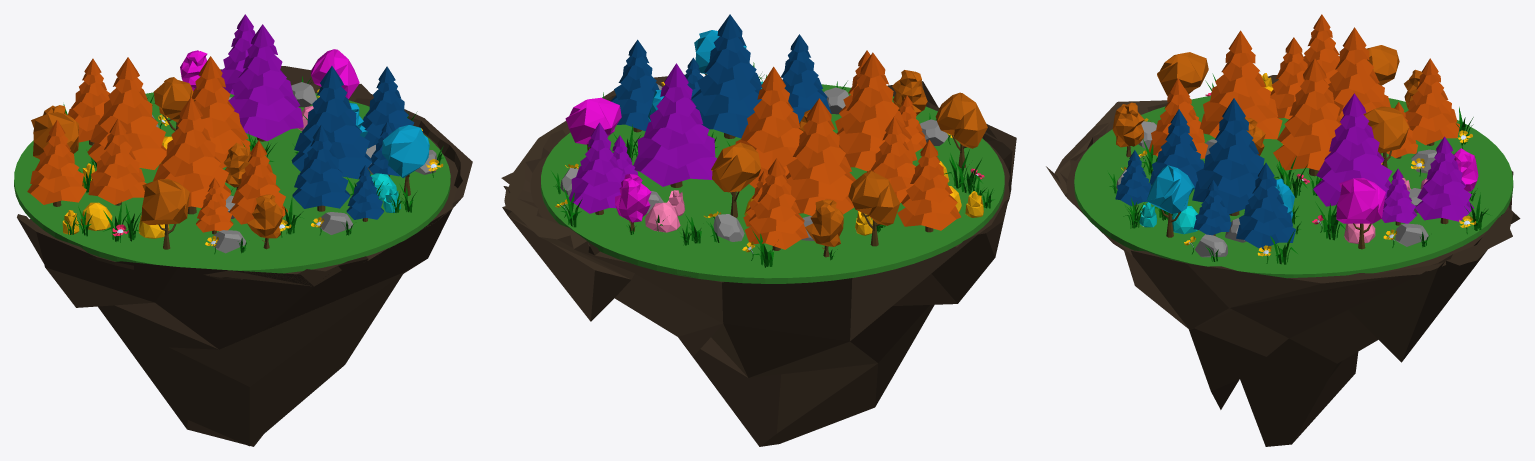
The model's file is community-full.gltf.
The picture shows the model from 3 angles, left to right: view 1: azimuth 30°, elevation 25°; view 2: azimuth 150°, elevation 25°; view 3: azimuth 270°, elevation 25°; orthographic projection. The views are drawn at different scales.
Visible parts, largest first — view 1: Bedrock.002, AAGround, FirTree3.009, FirTree3, FirTree3.008, FirTree3.014, FirTree3.017, FirTree3.016, FirTree3.018, FirTree3.015, FirTree3.006, Tree2Group2.002 (+17 smaller); view 2: Bedrock.002, AAGround, FirTree3.009, FirTree3.014, FirTree3, FirTree3.008, FirTree3.017, FirTree3.016, FirTree3.002, FirTree3.011, FirTree3.012, FirTree3.018 (+13 smaller); view 3: Bedrock.002, AAGround, FirTree3.017, FirTree3.014, FirTree3.009, FirTree3.008, FirTree3.012, FirTree3.011, FirTree3, FirTree3.002, Tree2Group2.003, FirTree3.018 (+17 smaller).
Boxes of the visible parts, bbox=[...] form: Bedrock.002: bbox=[17, 66, 472, 446]; AAGround: bbox=[14, 92, 450, 273]; FirTree3.009: bbox=[228, 24, 303, 141]; FirTree3: bbox=[87, 57, 166, 169]; FirTree3.008: bbox=[153, 97, 231, 214]; FirTree3.014: bbox=[291, 66, 372, 179]; FirTree3.017: bbox=[191, 56, 250, 168]; FirTree3.016: bbox=[27, 120, 86, 206]; FirTree3.018: bbox=[292, 124, 350, 211]; FirTree3.015: bbox=[88, 118, 146, 205]; FirTree3.006: bbox=[230, 140, 287, 224]; Tree2Group2.002: bbox=[141, 179, 189, 249]; Bedrock.002: bbox=[501, 74, 1016, 446]; AAGround: bbox=[541, 84, 1004, 283]; FirTree3.009: bbox=[633, 63, 716, 187]; FirTree3.014: bbox=[691, 14, 762, 138]; FirTree3: bbox=[786, 98, 855, 215]; FirTree3.008: bbox=[836, 52, 917, 171]; FirTree3.017: bbox=[735, 66, 803, 188]; FirTree3.016: bbox=[897, 139, 960, 232]; FirTree3.002: bbox=[744, 158, 808, 250]; FirTree3.011: bbox=[569, 122, 624, 214]; FirTree3.012: bbox=[610, 39, 659, 132]; FirTree3.018: bbox=[781, 34, 831, 122]; Bedrock.002: bbox=[1046, 75, 1520, 446]; AAGround: bbox=[1074, 95, 1513, 278]; FirTree3.017: bbox=[1273, 58, 1341, 176]; FirTree3.014: bbox=[1192, 98, 1264, 215]; FirTree3.009: bbox=[1313, 93, 1392, 206]; FirTree3.008: bbox=[1199, 30, 1282, 139]; FirTree3.012: bbox=[1236, 162, 1295, 249]; FirTree3.011: bbox=[1415, 136, 1473, 224]; FirTree3: bbox=[1328, 27, 1390, 118]; FirTree3.002: bbox=[1405, 58, 1459, 145]; Tree2Group2.003: bbox=[1336, 178, 1385, 249]; FirTree3.018: bbox=[1149, 109, 1204, 189].
Size of the model in its own units: 1.83 by 1.59 by 1.8.
